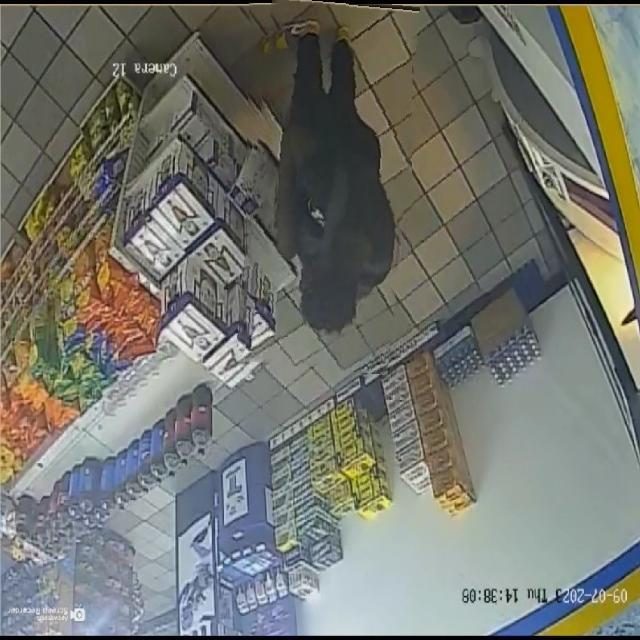normal: (244, 0, 412, 372)
